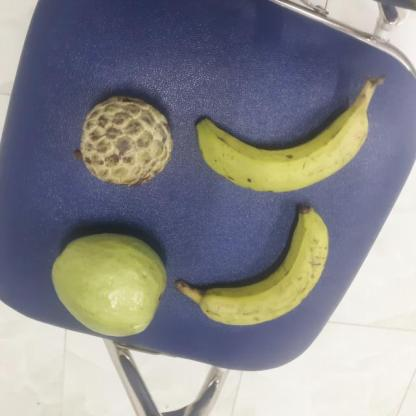annona: (72, 96, 172, 186)
banana: (169, 206, 331, 326), (188, 90, 367, 194)
guava: (50, 230, 165, 340)
